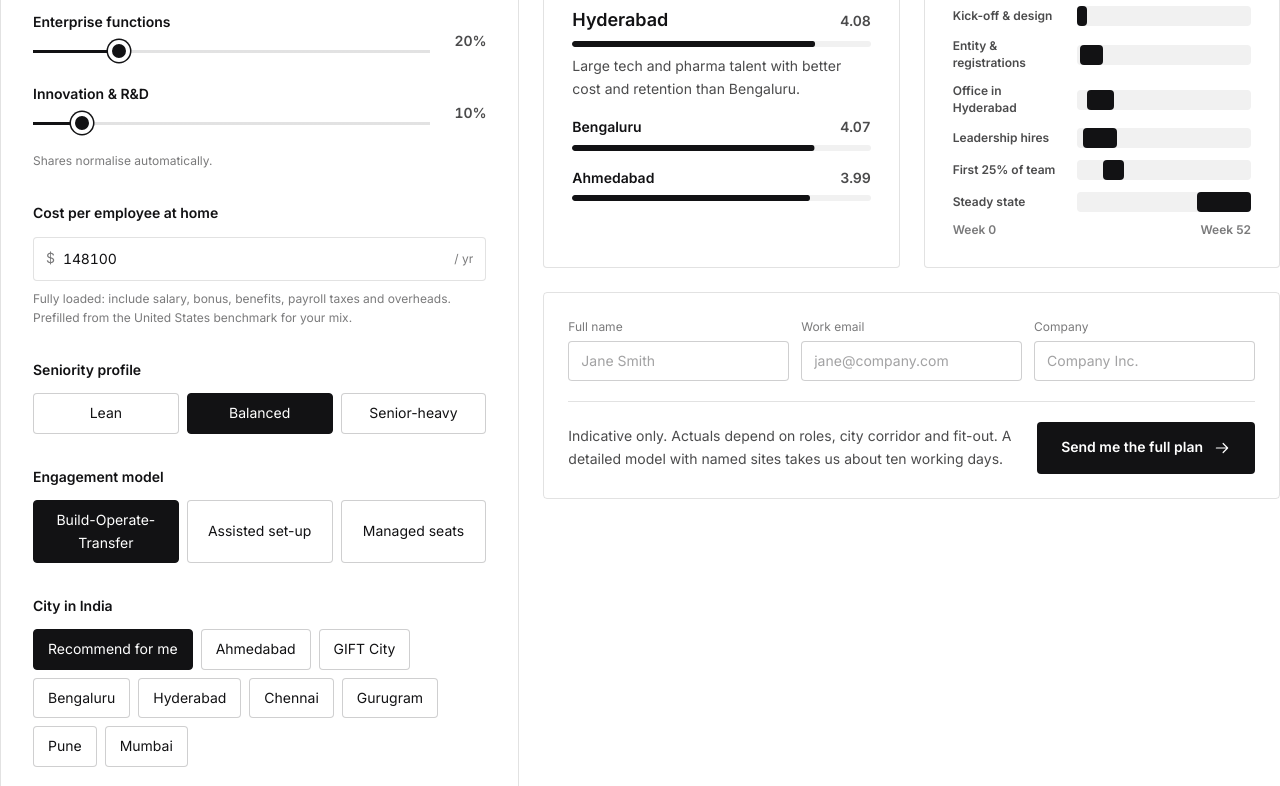
Test: CostCalculator (GCC Planner) › recommends a city by default and honours an explicit pick with a note
The image size is (1280, 786).
(page scrolled)
Click the button "Mumbai".
click(146, 746)  # box x1=105 y1=726 x2=188 y2=766
(page scrolled)
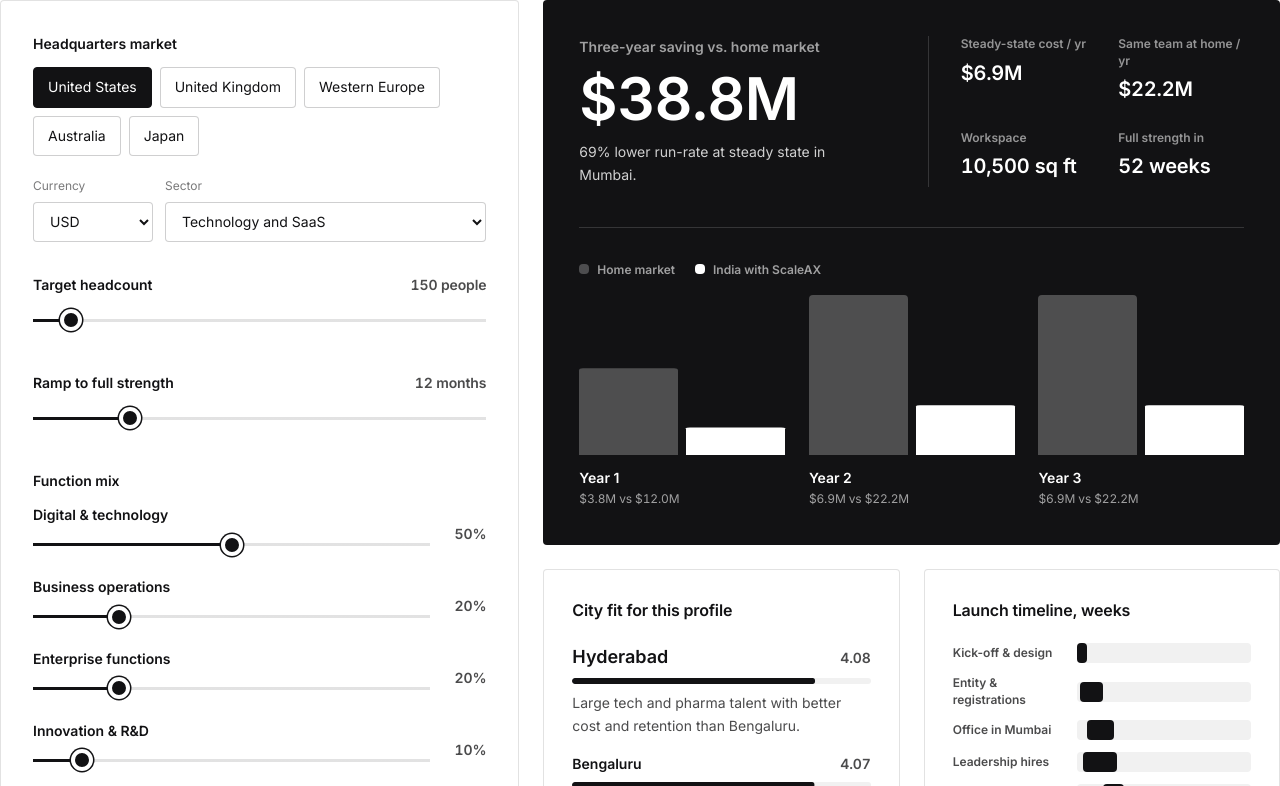
Result: the text "69% lower run-rate at steady state in Mumbai." is shown at x1=579 y1=143 x2=825 y2=183
